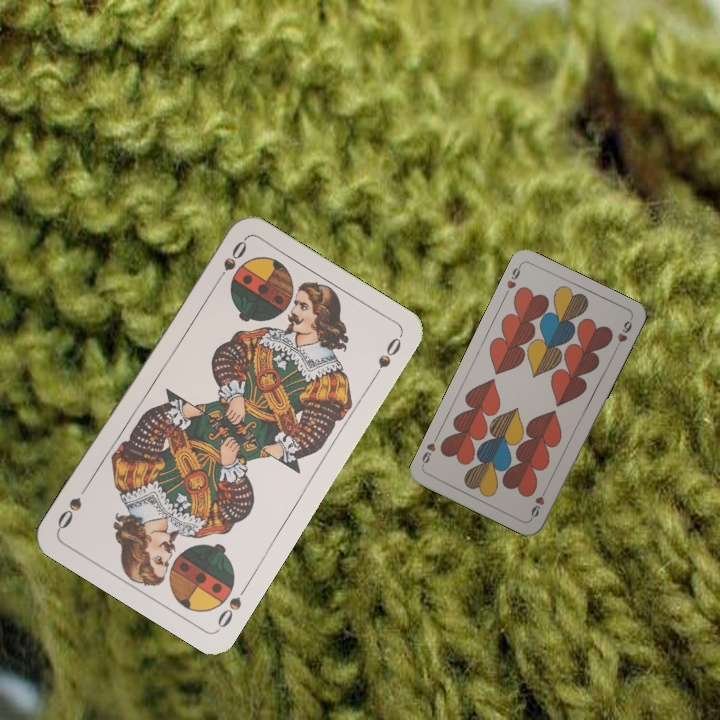H9: (526, 483, 550, 521), (500, 261, 524, 299)
SO: (210, 236, 250, 289), (213, 579, 251, 631)
